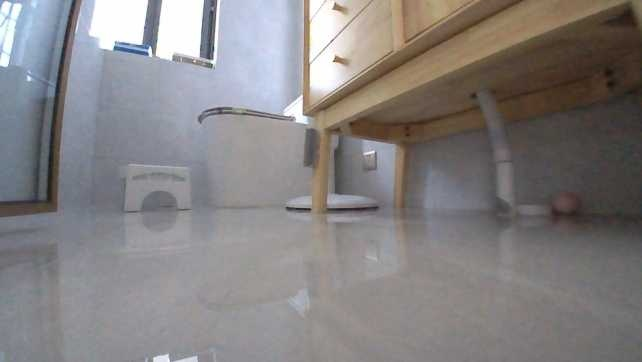chair_base: (284, 169, 377, 213)
toilet: (198, 90, 318, 206)
